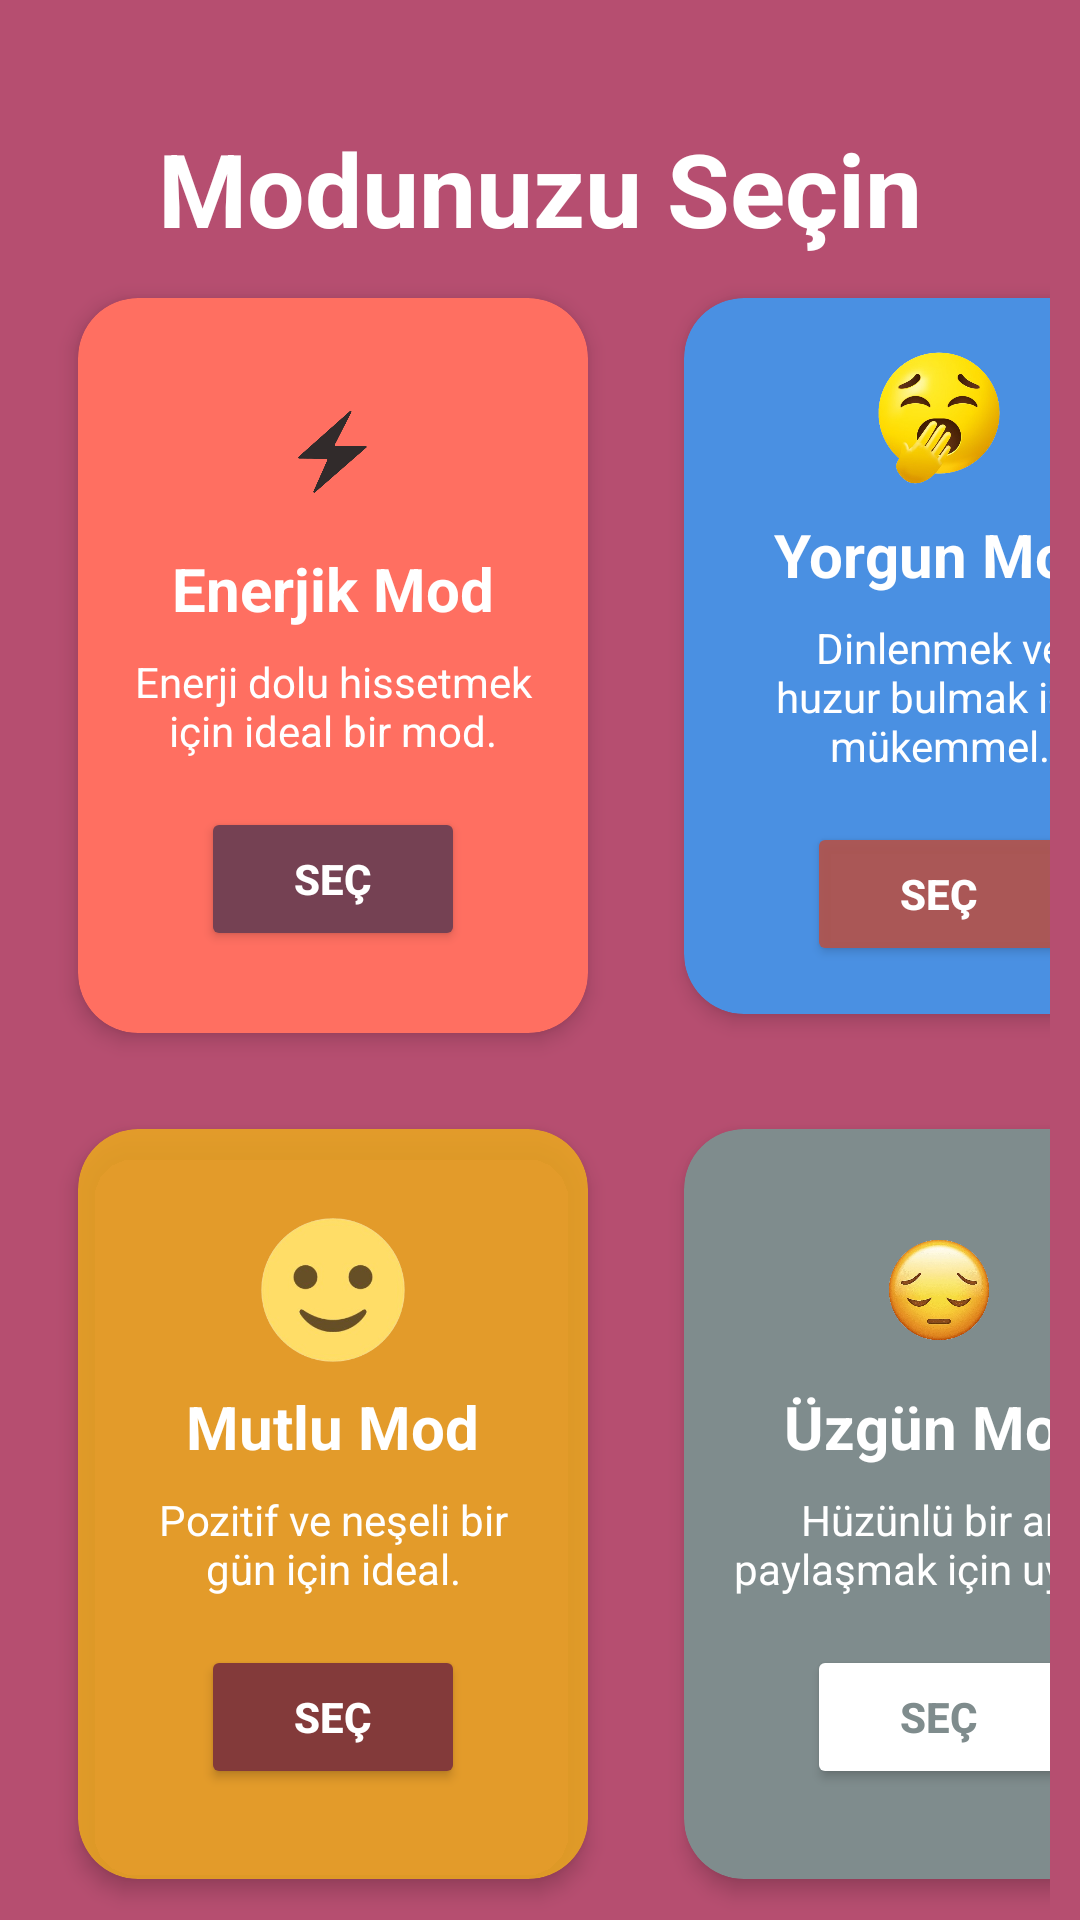

Icon click points for this 1080 × 1920 phone screenshot, format point (x, y):
Enerjik İkon: point (332, 452)
Mutlu İkon: point (333, 1290)
Yorgun İkon: point (939, 418)
Üzgün İkon: point (939, 1290)
